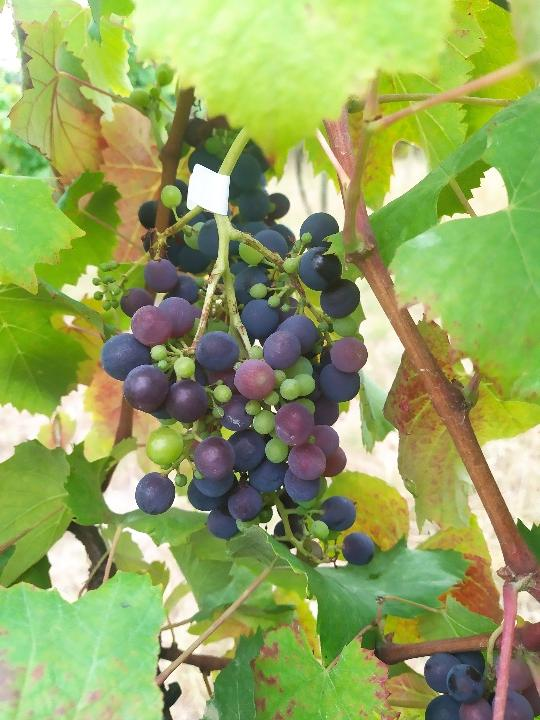grape: (92, 186, 378, 569)
